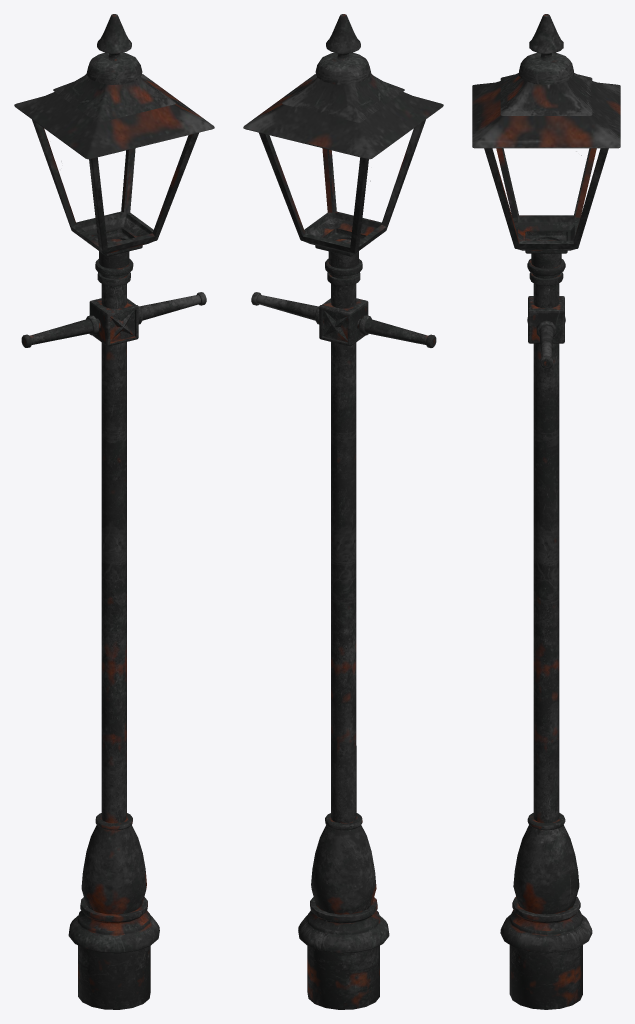
File: streetLamp.fbx
3 views of the same model, side by side, from view 1: azimuth 30°, elevation 25°; view 2: azimuth 150°, elevation 25°; view 3: azimuth 270°, elevation 25° (orthographic).
Parts seen in each view (by area): view 1: g; view 2: g; view 3: g.
Part boxes in pixels (x1=…): g: x1=14, y1=14, x2=214, y2=1009; g: x1=243, y1=14, x2=443, y2=1009; g: x1=472, y1=14, x2=620, y2=1009.
Size of the model in its own units: 38.38 by 200 by 27.48.
Materials: 1 (1 with a texture image).
